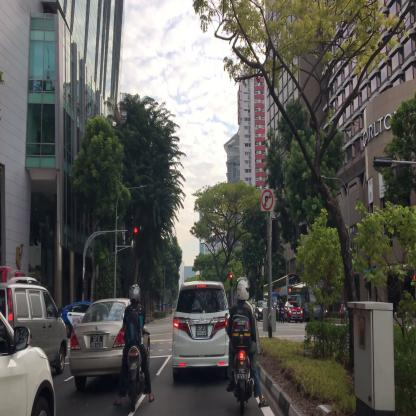red_traffic_light: (128, 226, 138, 235), (230, 272, 233, 286)
